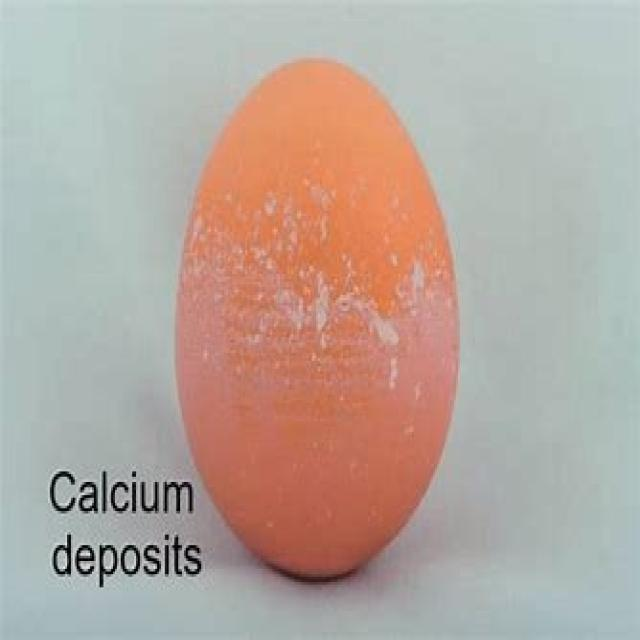Calcium Deposit Egg: (172, 38, 473, 588)
